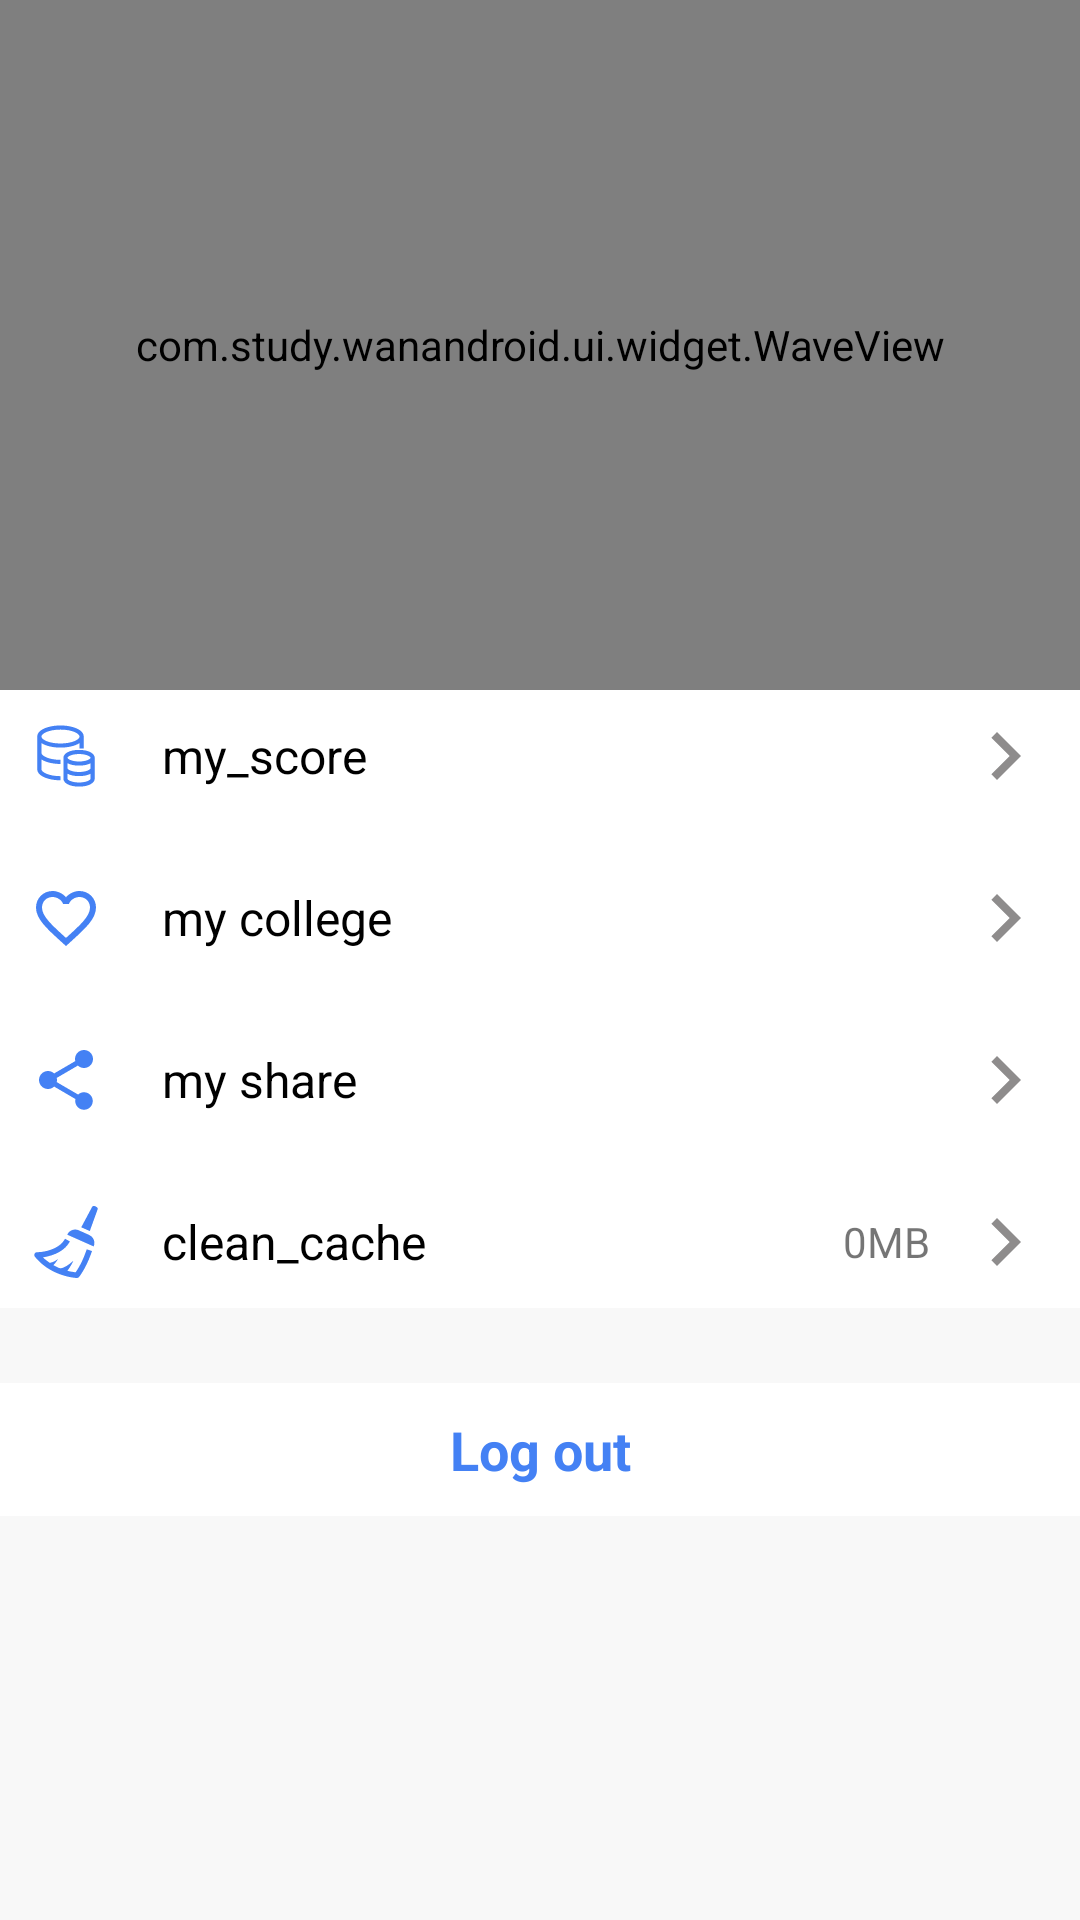

Locate icon controls on the screen. Image size 1080×1920, boxes as [left=x1, top=y1, right=x2, bottom=y2].
favorite border: [left=36, top=891, right=96, bottom=946]
keyboard arrow right: [left=991, top=732, right=1021, bottom=780], [left=991, top=894, right=1021, bottom=942], [left=991, top=1056, right=1021, bottom=1104], [left=991, top=1218, right=1021, bottom=1266]
